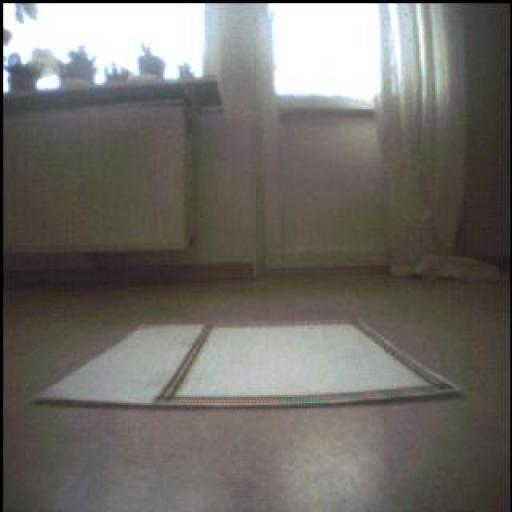Pad: (38, 323, 460, 408)
